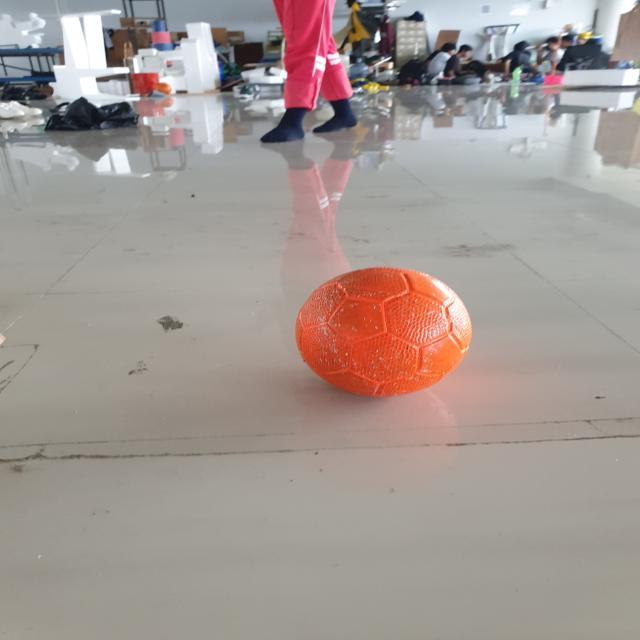bola: (281, 256, 484, 406)
